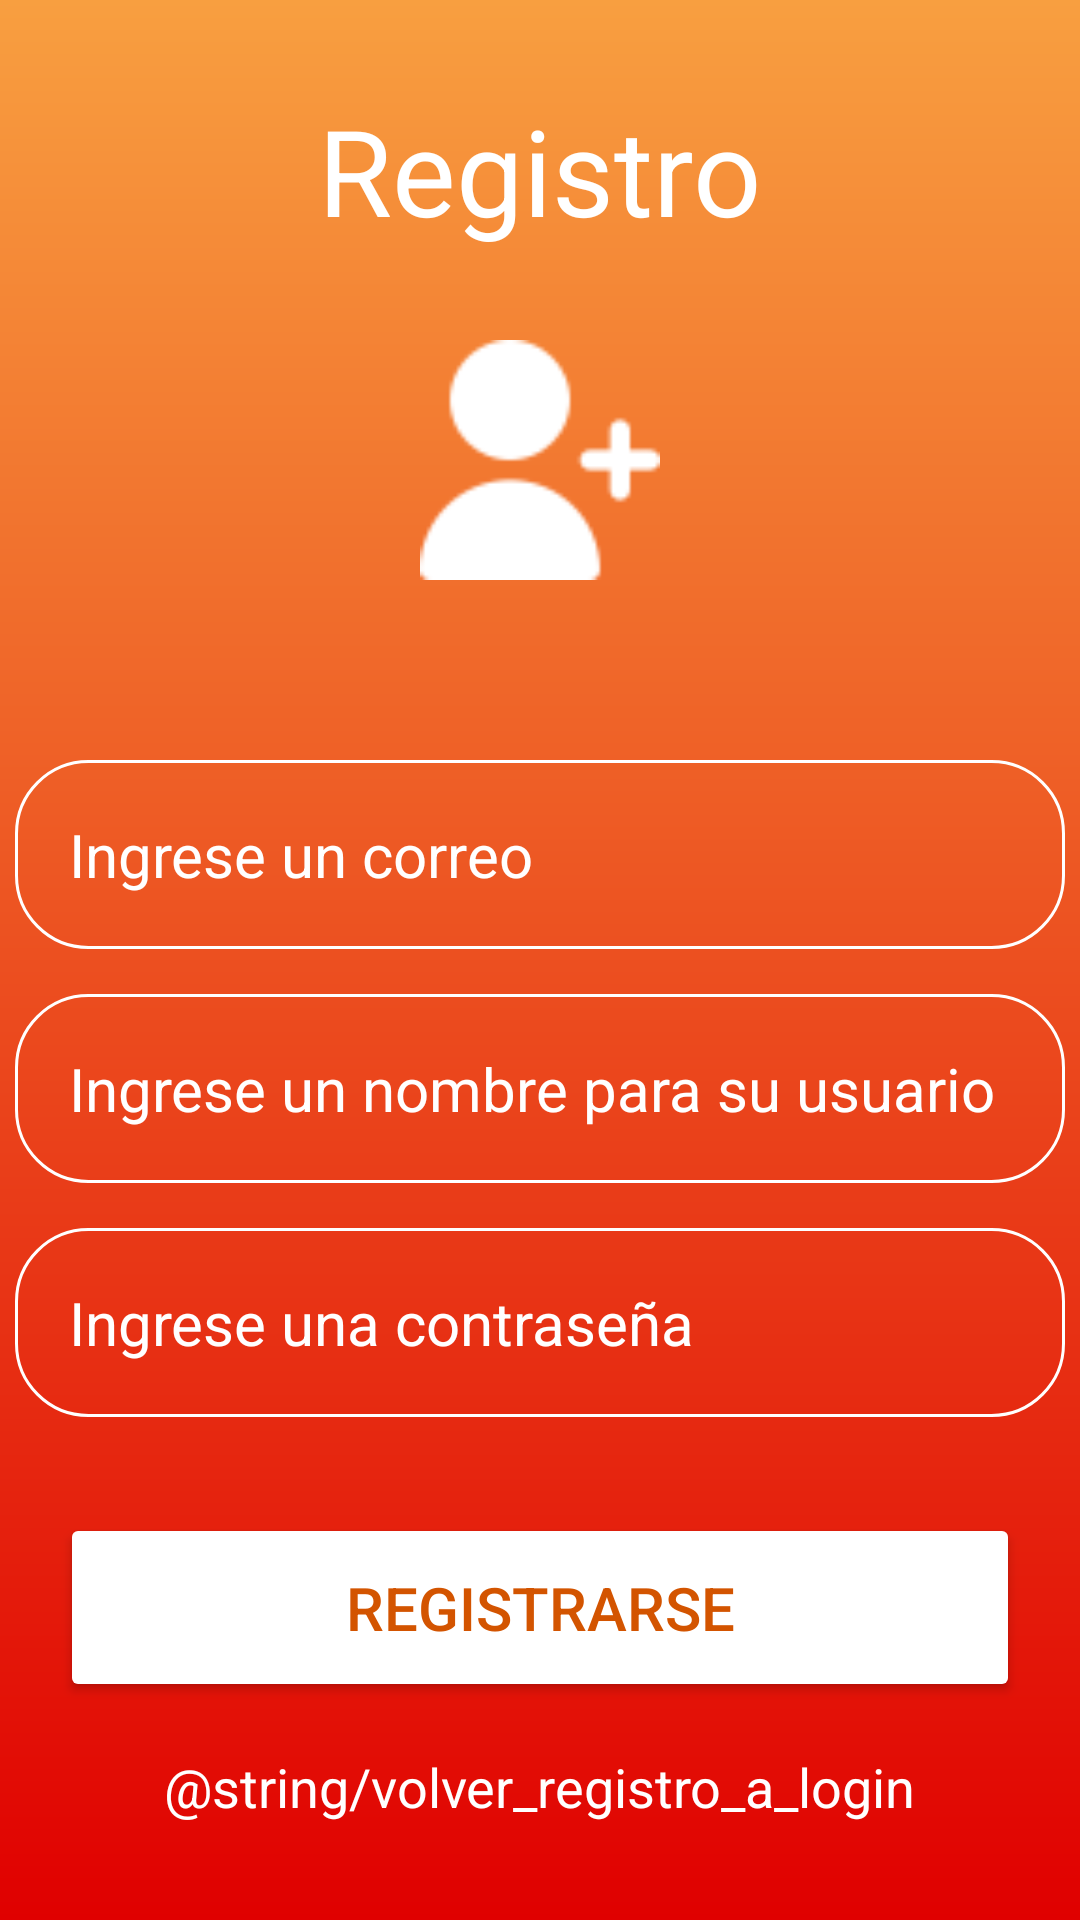

Screen size 1080x1920. Icon name, then its box in pixels as [x1, y1, x2, y2]:
user: [420, 340, 660, 580]
